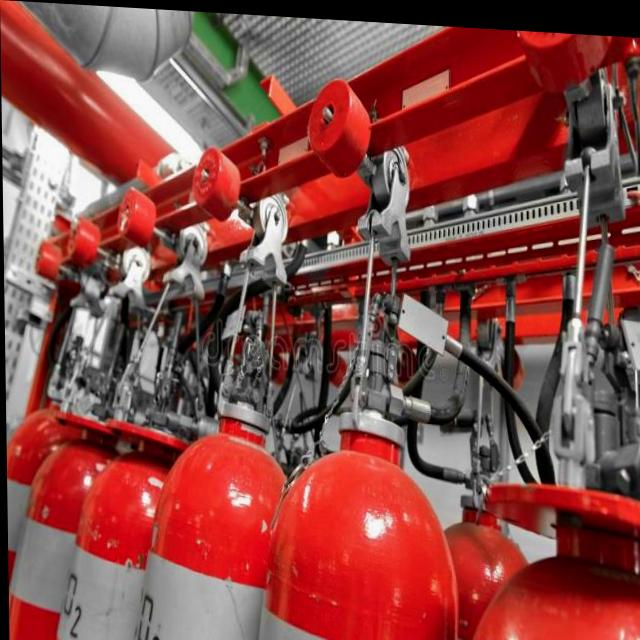FireExtinguisher: (241, 327, 461, 640), (123, 321, 318, 640), (48, 333, 219, 640), (5, 368, 169, 640), (448, 420, 640, 640), (421, 436, 547, 640)
